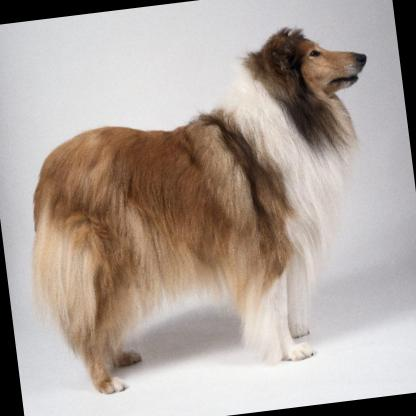collie: (8, 19, 402, 400)
